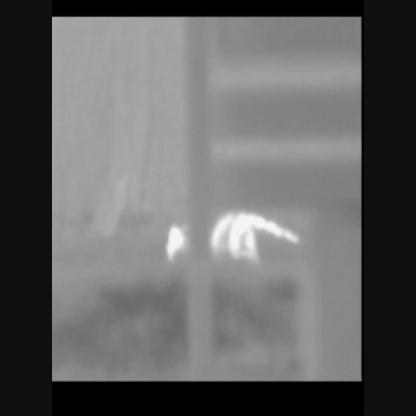rehkitze: (211, 206, 297, 263), (163, 217, 186, 259)
